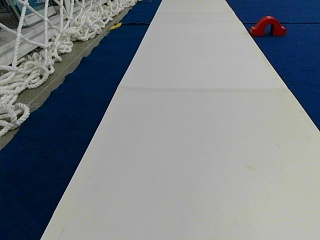bridge: (251, 16, 286, 34)
